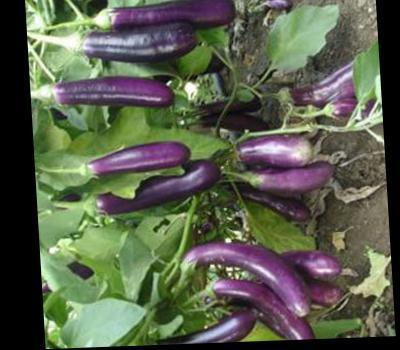eggplant: (38, 0, 246, 121), (158, 223, 339, 344), (68, 131, 222, 226), (217, 104, 332, 206)
